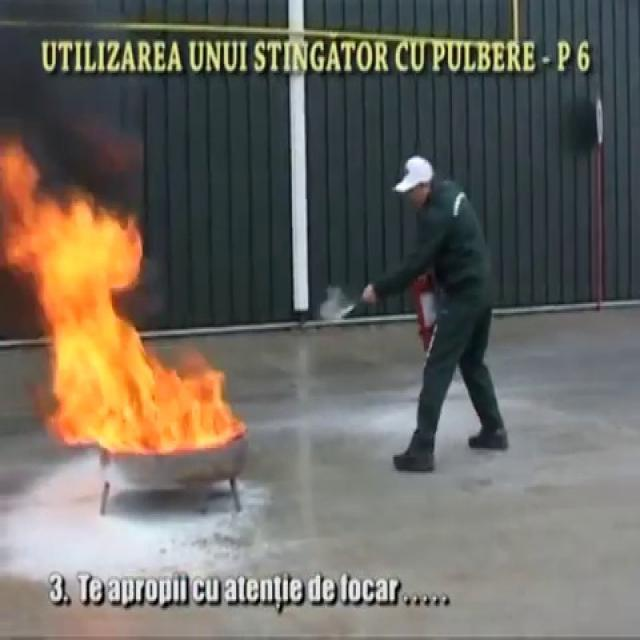Fire: (0, 142, 237, 442)
